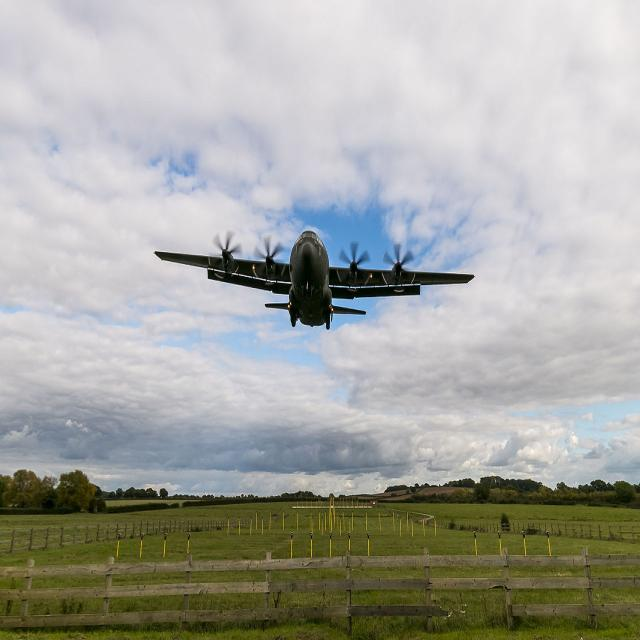MIL_Plane: (153, 228, 474, 325)
